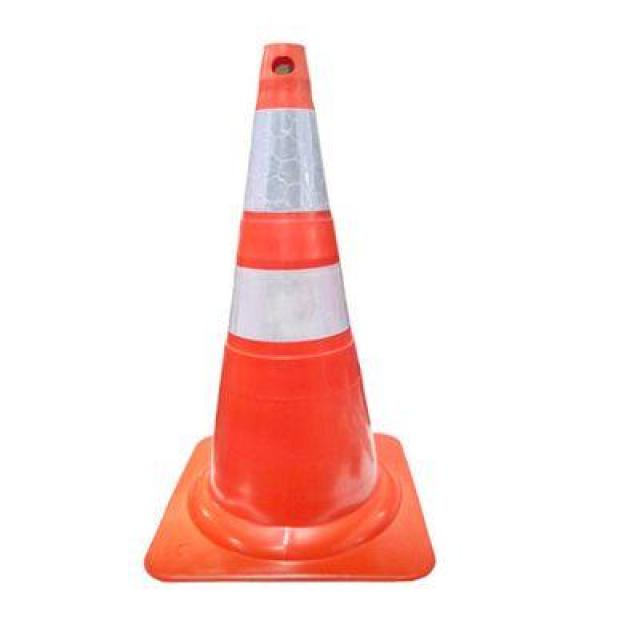cone: (135, 33, 441, 580)
